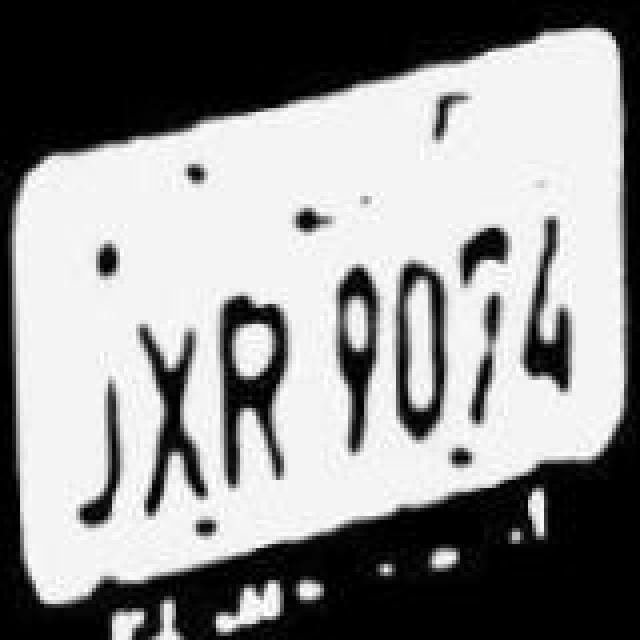4: (510, 196, 582, 448)
7: (444, 196, 512, 436)
9: (316, 230, 388, 486)
J: (68, 298, 132, 522)
O: (378, 208, 450, 448)
R: (206, 264, 290, 504)
X: (130, 286, 214, 514)
